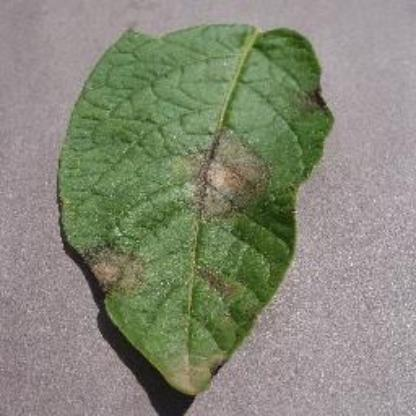Late-Blight: (41, 11, 347, 406)
